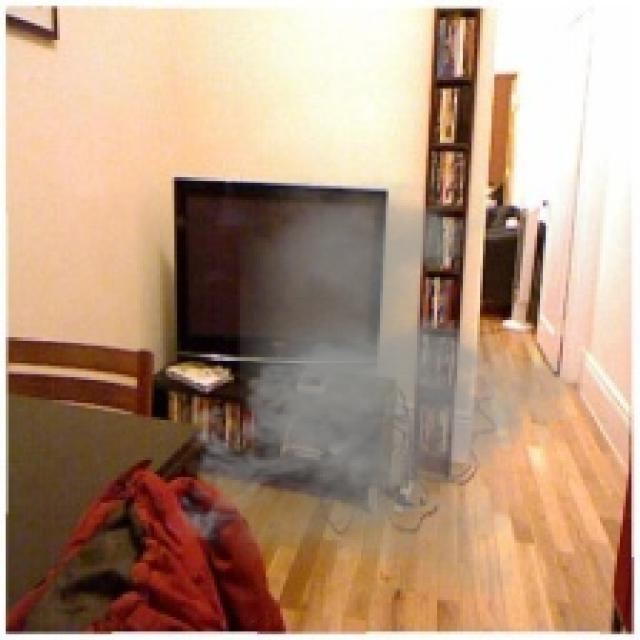smoke: (163, 177, 588, 597)
